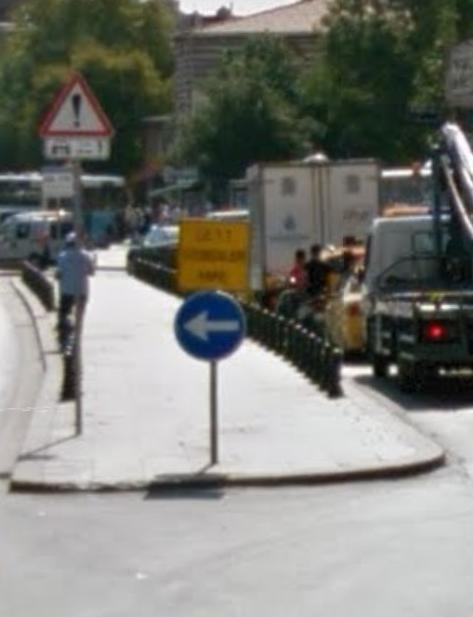turnleft: (173, 290, 247, 357)
